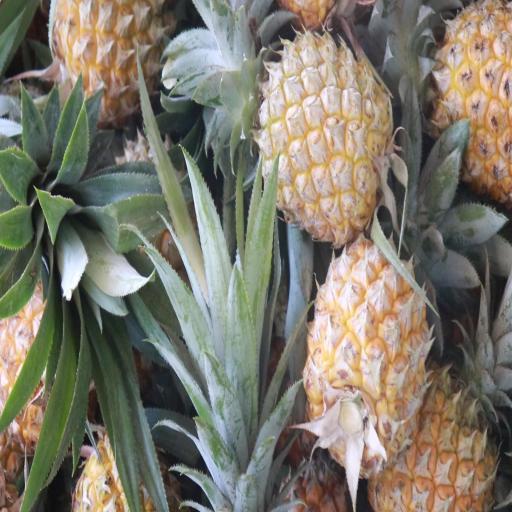------------------------------: (48, 0, 170, 116)
Pineapple - v8 v1: (257, 33, 392, 243), (308, 237, 426, 467), (368, 351, 497, 512), (405, 3, 512, 189)
